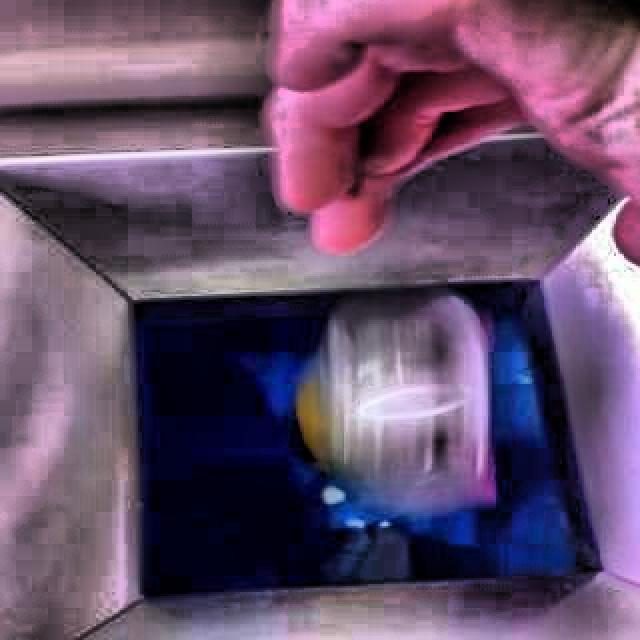metal: (299, 288, 496, 518)
